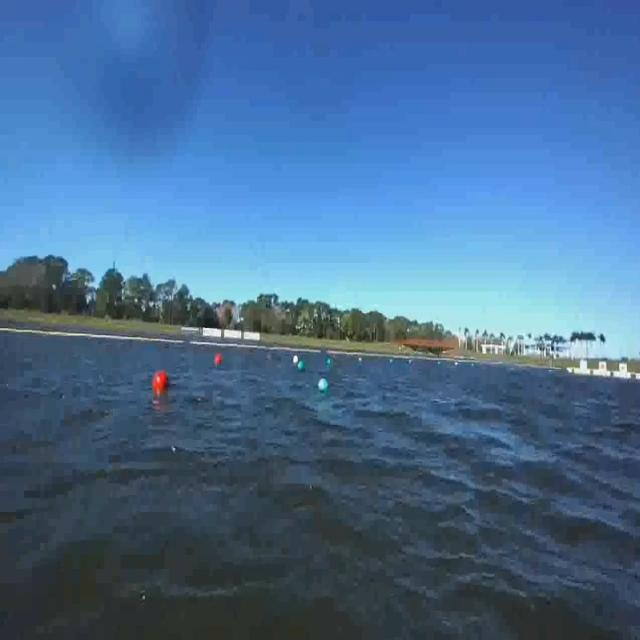green-buoy: (318, 376, 329, 395), (297, 360, 304, 371), (328, 358, 334, 367)
red-buoy: (152, 370, 168, 393), (215, 352, 222, 366)
